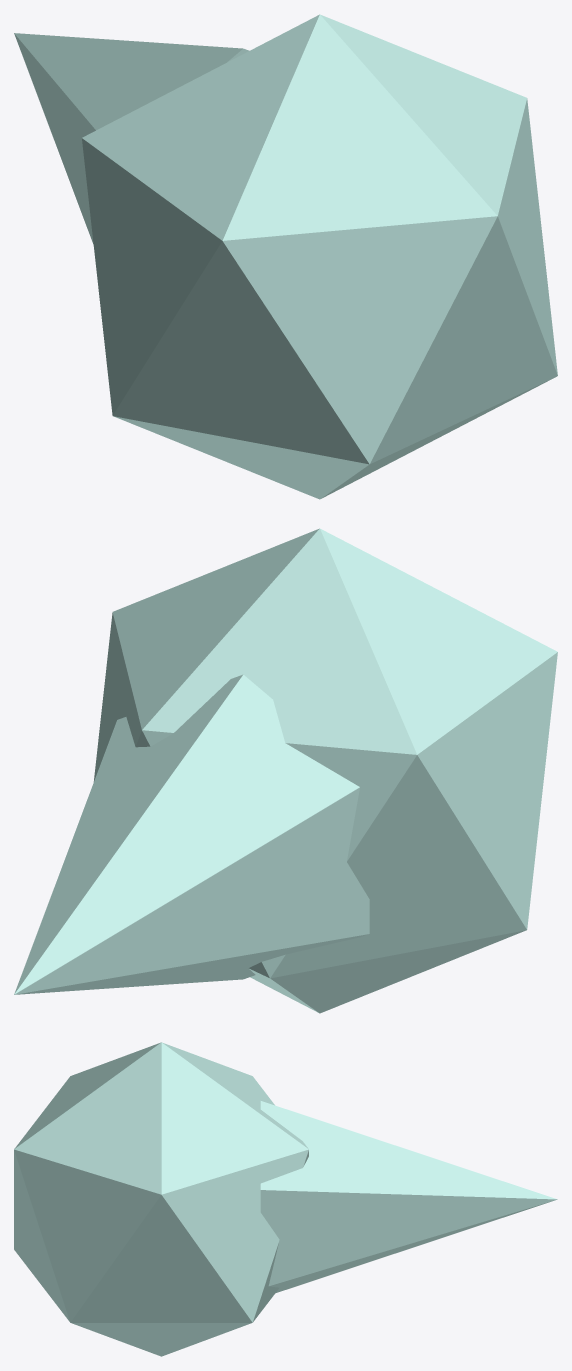
File: wisp.glb
3 renders of one model, top to bottom at view 1: azimuth 30°, elevation 25°; view 2: azimuth 150°, elevation 25°; view 3: azimuth 270°, elevation 25°, orthographic. The views are drawn at different scales.
Parts seen in each view (by area): view 1: Wisp; view 2: Wisp; view 3: Wisp.
Boxes of the visible parts, x1=… form: Wisp: x1=14, y1=14, x2=557, y2=499; Wisp: x1=14, y1=528, x2=557, y2=1013; Wisp: x1=14, y1=1042, x2=557, y2=1356.
Size of the model in its own units: 0.6261 by 0.7 by 1.1.
